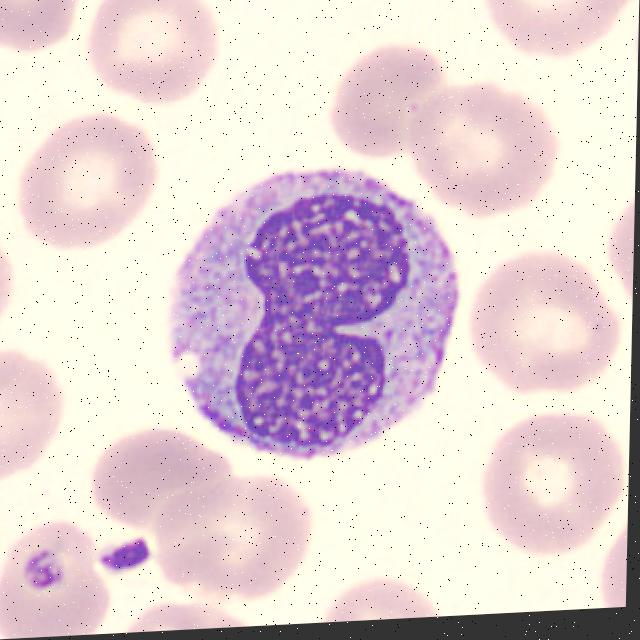monocyte: (154, 137, 453, 463)
platelets: (77, 526, 164, 593), (14, 536, 70, 594)
rbc: (471, 234, 622, 394), (78, 411, 259, 541), (411, 72, 571, 217), (149, 473, 325, 603), (14, 105, 169, 250), (484, 406, 616, 552), (84, 0, 230, 115), (324, 40, 454, 156), (0, 513, 104, 639), (295, 559, 463, 624), (467, 0, 640, 53), (0, 326, 61, 476), (109, 588, 272, 633), (0, 226, 54, 338), (584, 495, 628, 608), (0, 0, 83, 59), (608, 184, 635, 314)
